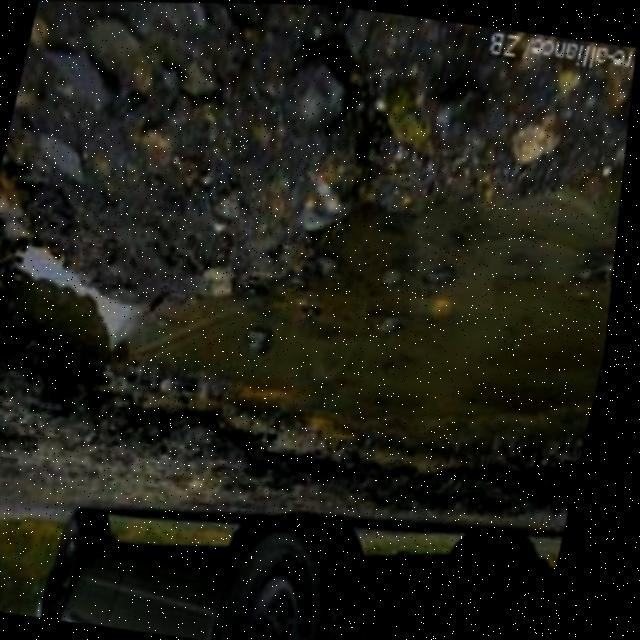Pothole: (0, 14, 639, 537)
